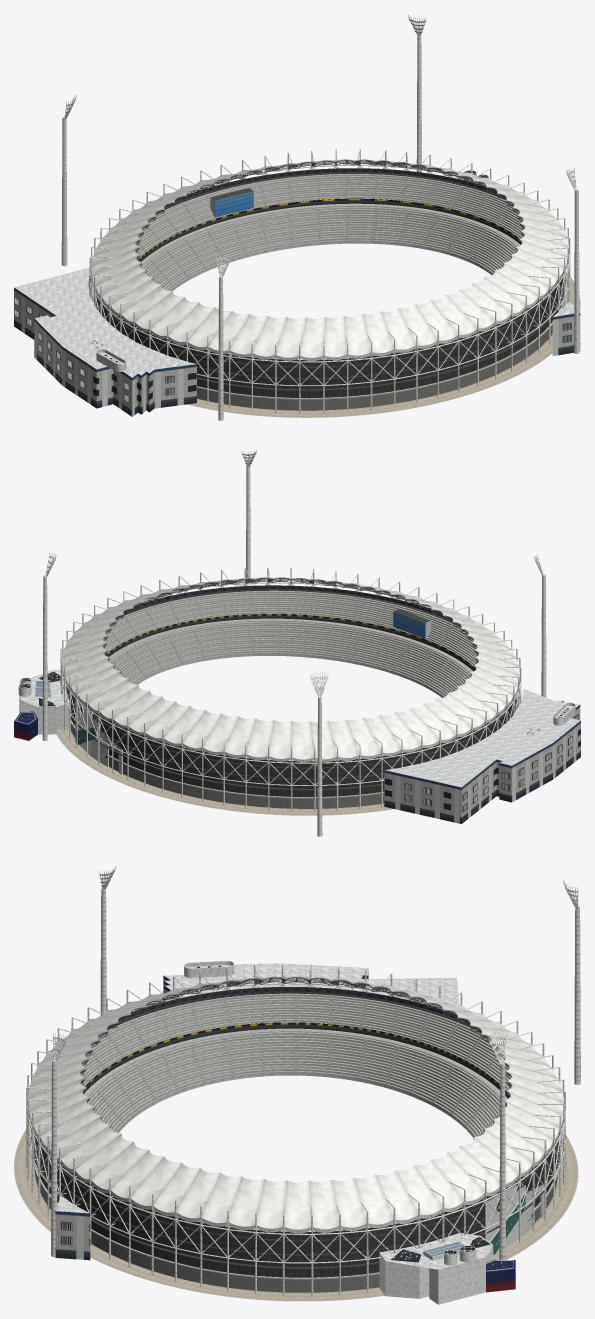
File: gabba.glb
3 views of the same model, one above another, from view 1: azimuth 30°, elevation 25°; view 2: azimuth 150°, elevation 25°; view 3: azimuth 270°, elevation 25° (orthographic). The views are drawn at different scales.
Parts seen in each view (by area): view 1: gabba, aisle_steps, lattice; view 2: gabba, aisle_steps, lattice; view 3: gabba, aisle_steps, lattice.
Part boxes in pixels (x1,y1,x2,y2): gabba: (14, 14, 580, 420); aisle_steps: (137, 175, 521, 286); lattice: (92, 160, 569, 360); gabba: (14, 449, 580, 836); aisle_steps: (103, 592, 477, 694); lattice: (62, 578, 517, 761); gabba: (14, 865, 580, 1304); aisle_steps: (82, 995, 509, 1135); lattice: (28, 977, 563, 1232).
Size of the model in its own units: 270 by 101 by 220.
30 materials, 29 textured.
